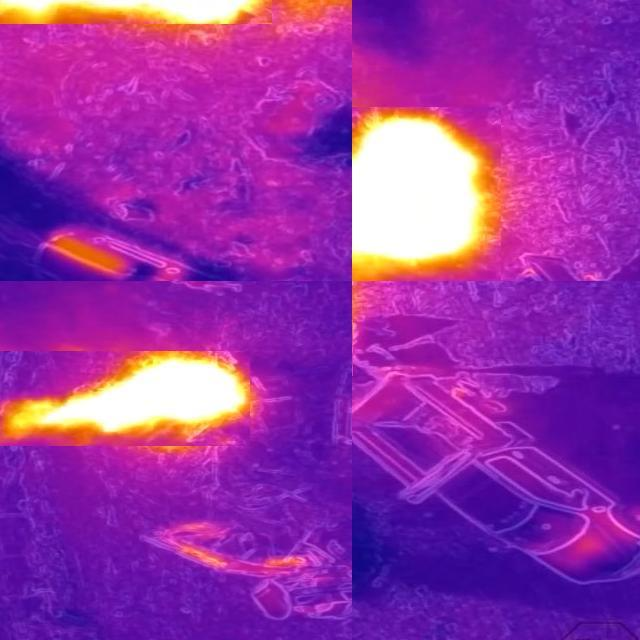fire: (353, 107, 502, 282), (1, 351, 251, 446), (1, 1, 273, 24)
